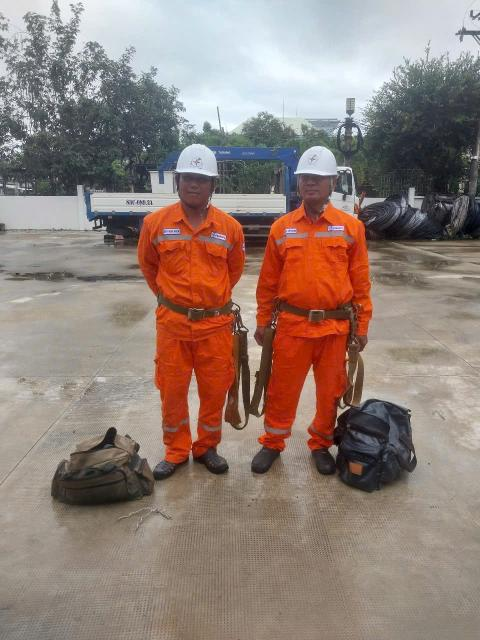harness: (252, 288, 365, 336), (150, 284, 244, 326)
helmet: (172, 135, 226, 192), (289, 147, 346, 179)
shoes: (151, 450, 191, 489), (188, 442, 231, 478), (251, 441, 289, 478), (306, 440, 340, 475)
